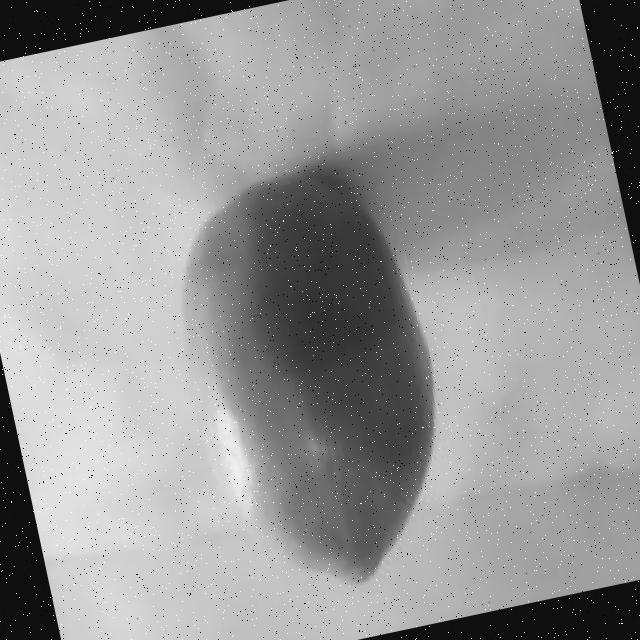Ripe: (149, 152, 480, 621)
